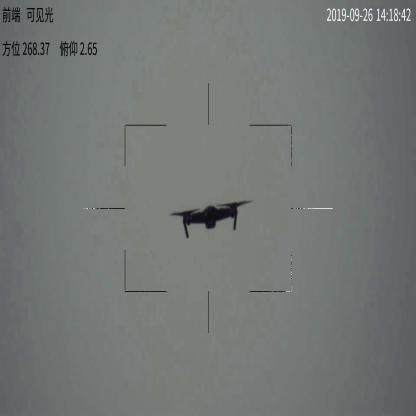uav: (168, 198, 256, 242)
